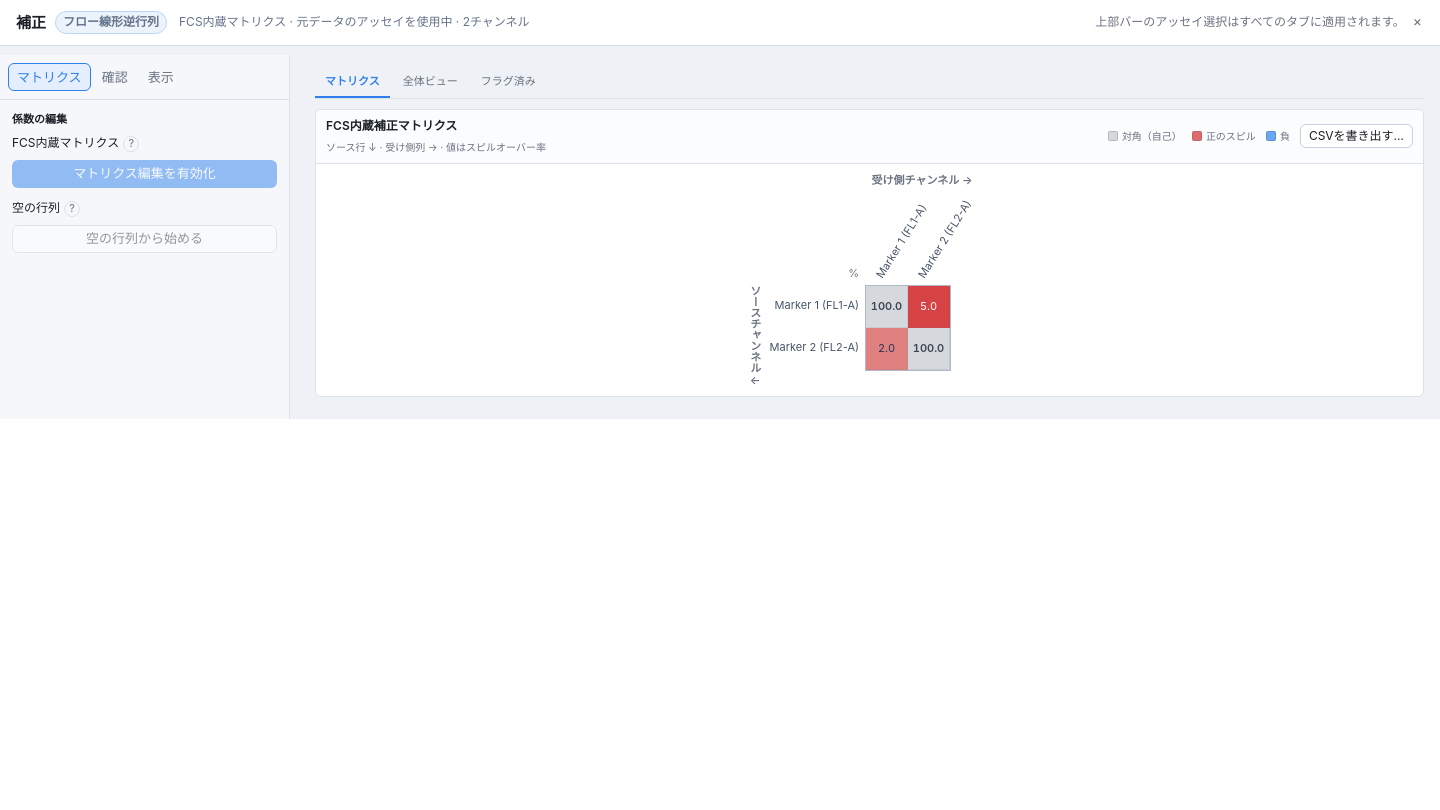
Test: CompensationTab common path › renders the Matrix, Global, Flagged, and export paths in Japanese
The image size is (1440, 810).
Click the button "CSVを書き出す…".
click(1356, 136)  # box top-left (1300, 124), bottom-right (1413, 148)
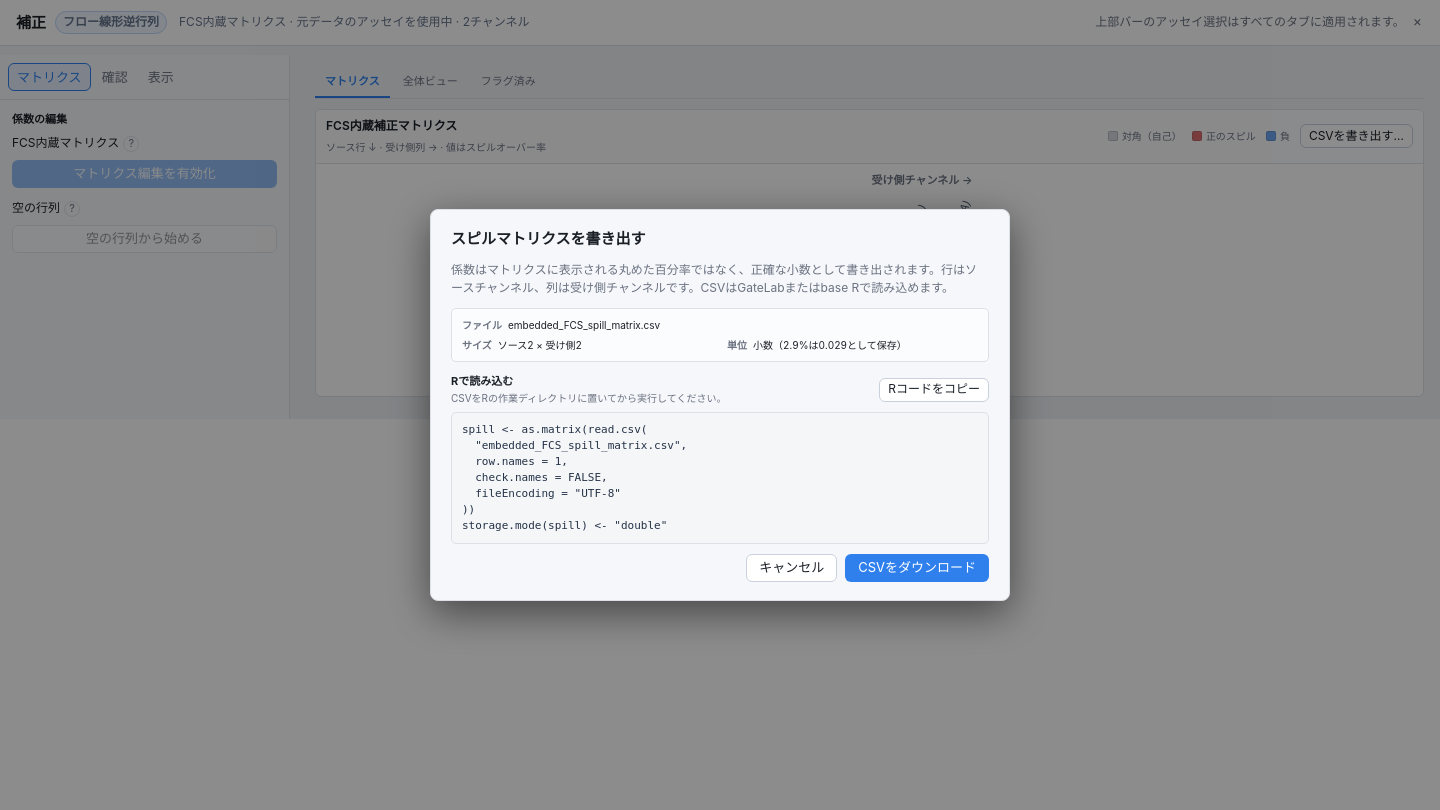
Result: the dialog shows "スピルマトリクスを書き出す" at top-left (451, 229), bottom-right (646, 248)
Click the button "キャンセル".
click(792, 568)  # box top-left (746, 554), bottom-right (837, 582)
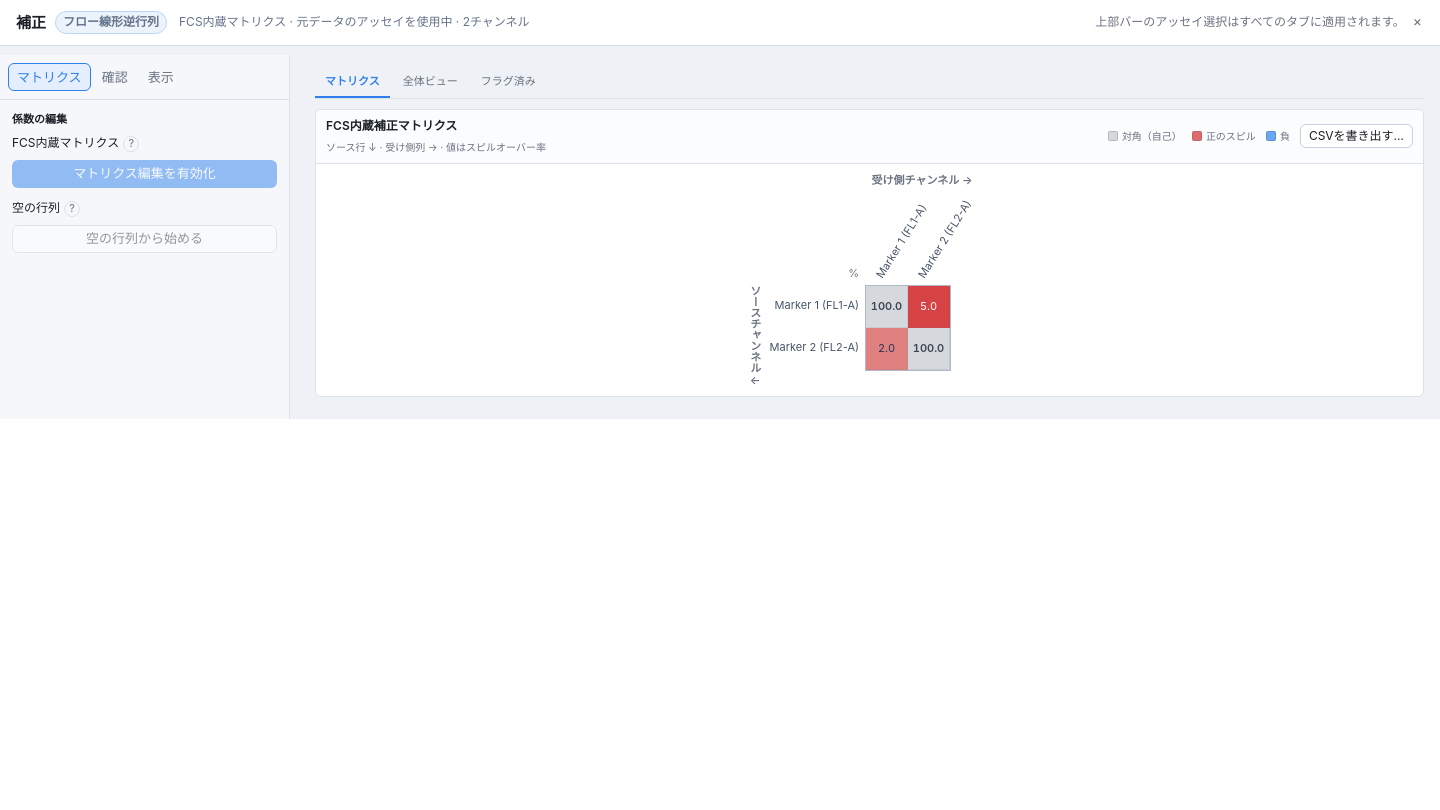
Click the tab "全体ビュー".
click(430, 82)  # box top-left (393, 67), bottom-right (468, 98)
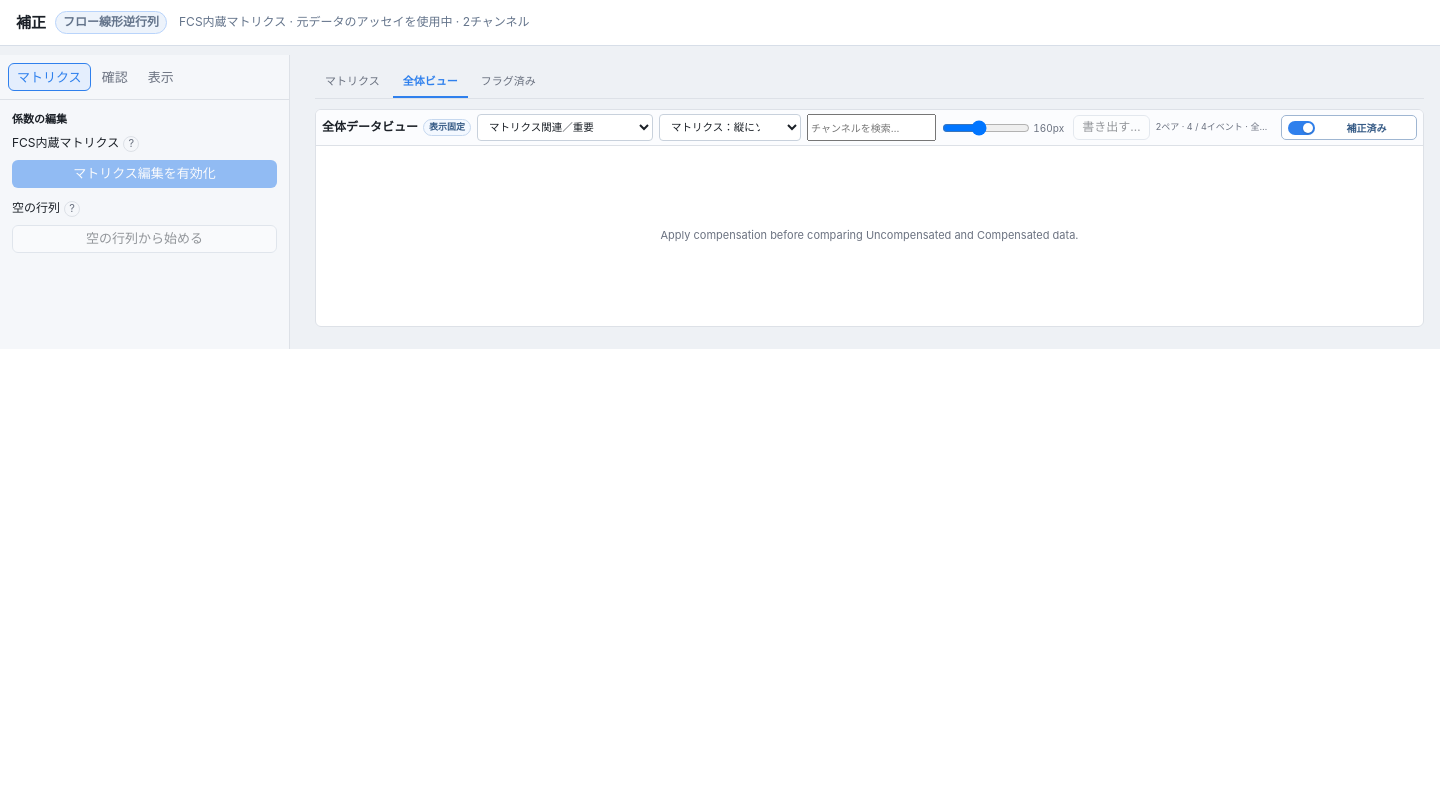
Result: the text "全体データビュー" is shown at top-left (322, 119), bottom-right (418, 136)
Result: the text "表示固定" is shown at top-left (423, 119), bottom-right (471, 136)
Click the tab "フラグ済み".
click(508, 82)  # box top-left (471, 67), bottom-right (546, 98)
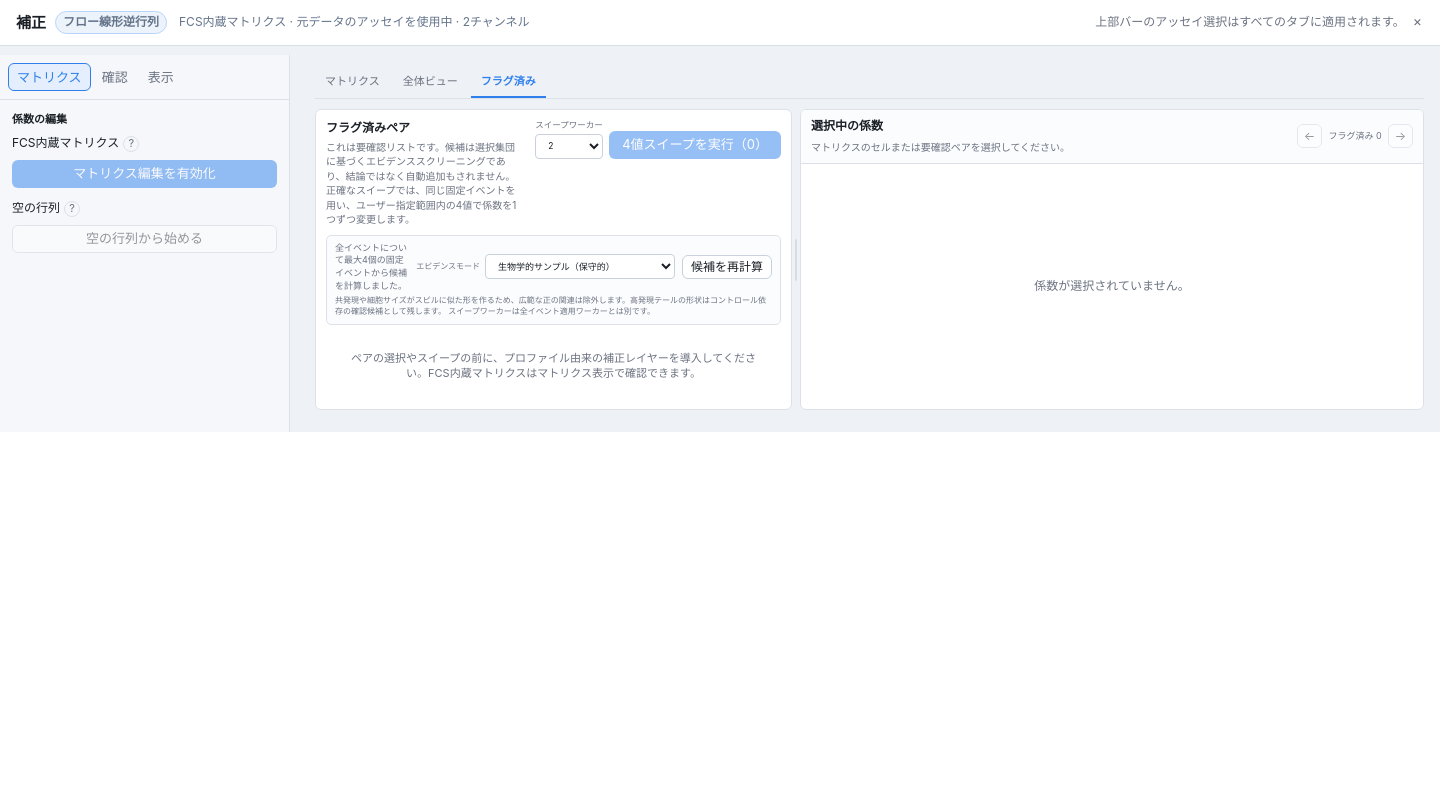
Result: the dropdown named "補正エビデンスモード" is shown at top-left (485, 254), bottom-right (675, 280)
Result: the text "フラグ済みペア" is shown at top-left (326, 120), bottom-right (410, 135)
Result: the text "エビデンスモード" is shown at top-left (416, 261), bottom-right (480, 273)
